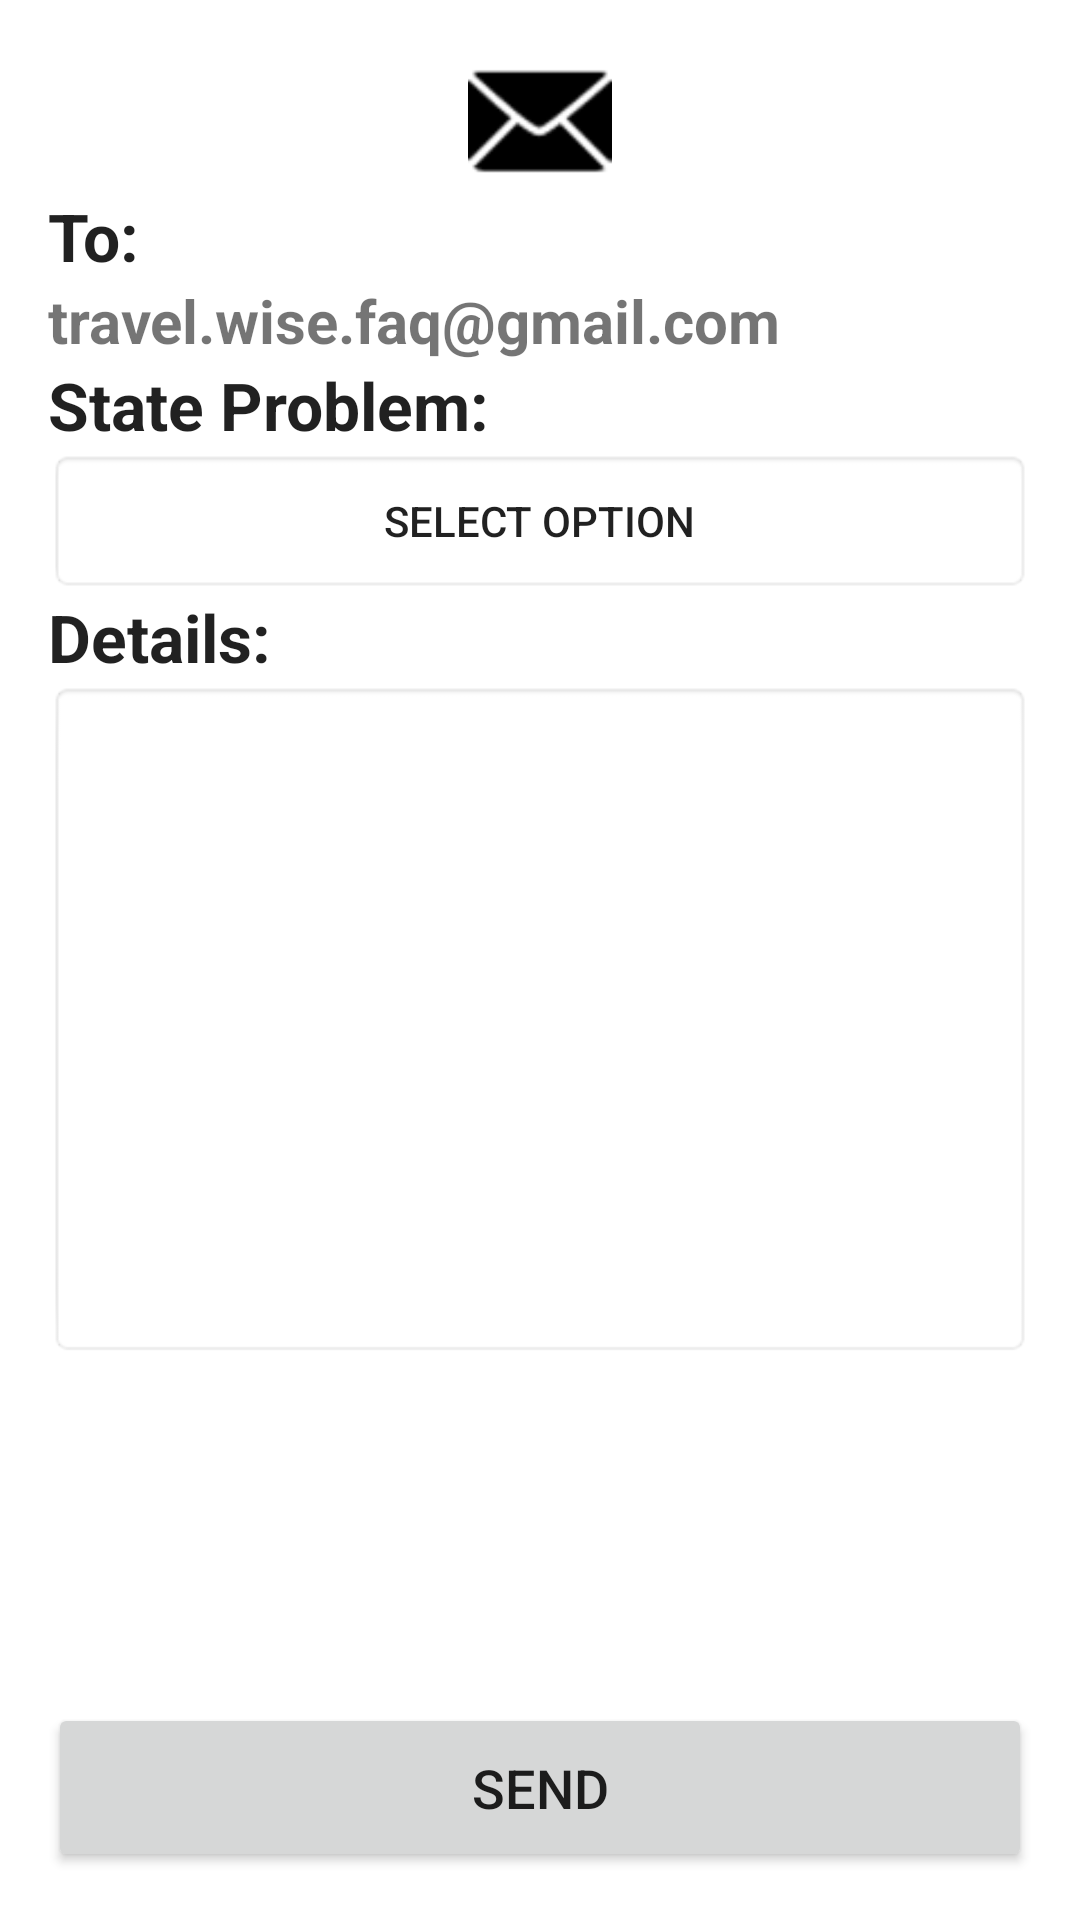

Named icons in this screenshot (1080×1920) and their centers, [x,y]:
email: [540,121]
